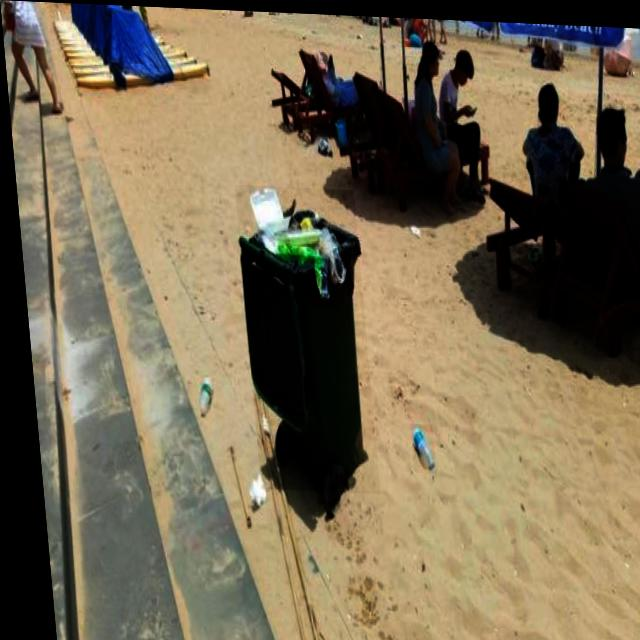garbage: (189, 375, 258, 523), (403, 420, 428, 470)
overflow: (231, 183, 372, 491)
